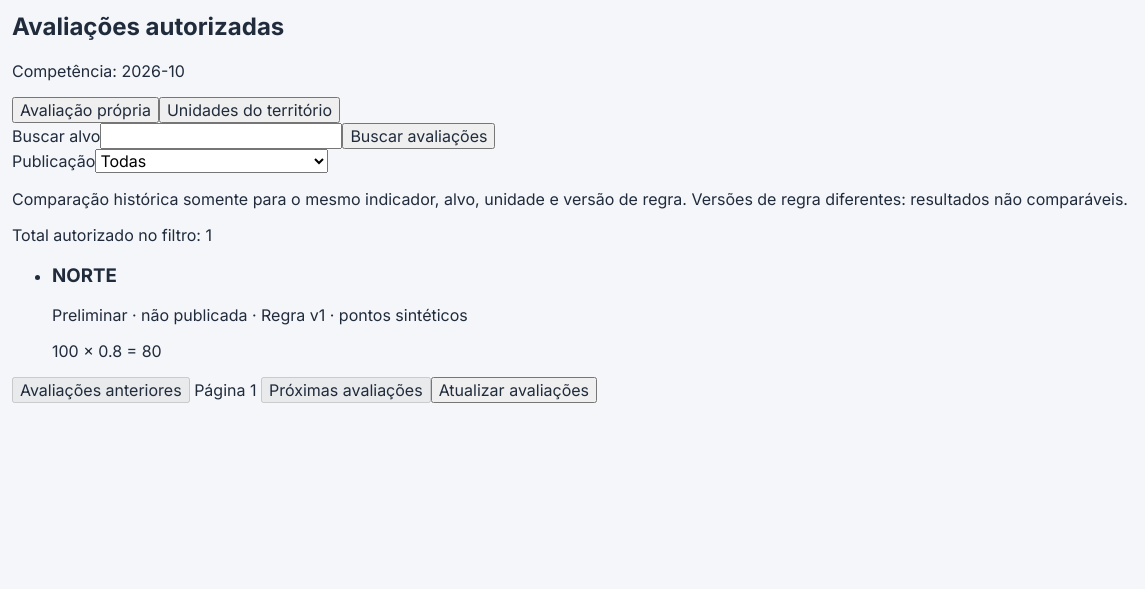
Test case: separates district own from territorial units and keeps rule versions noncomparable
Expected: the text "100 × 0.8 = 80" is shown, [52,341,162,361]
Click the button "Unidades do território" at (250, 110), box [159,97,340,123]
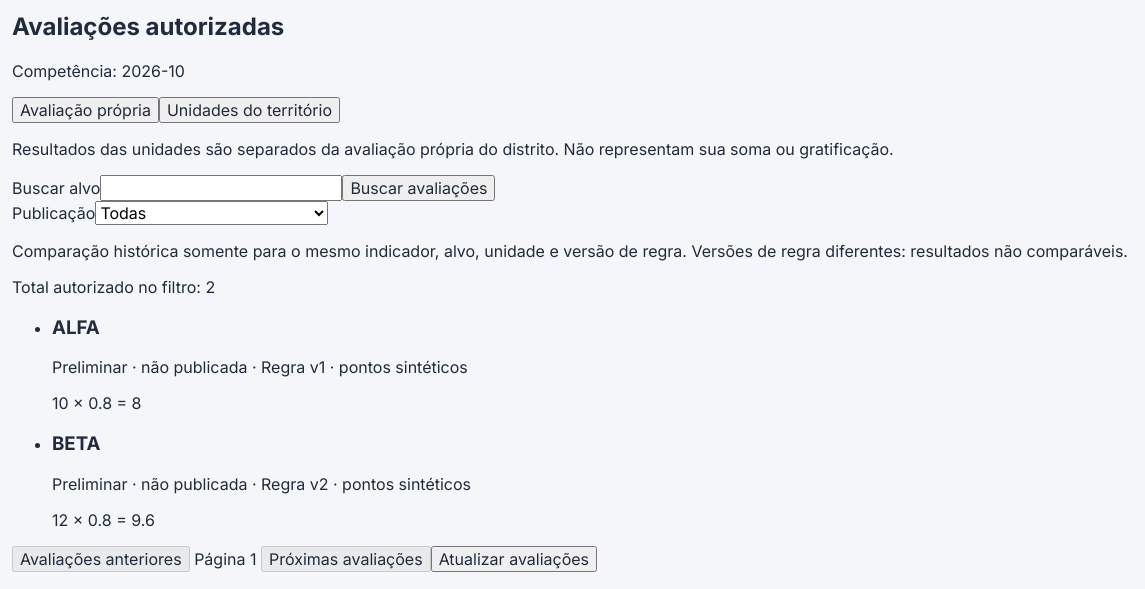
Expected: the text "Versões de regra diferentes: resultados não comparáveis" is shown, [12,241,1128,261]
Now the heading "ALFA" is shown, box [52,316,100,338]
Now the text "100 × 0.8 = 80" is gone
